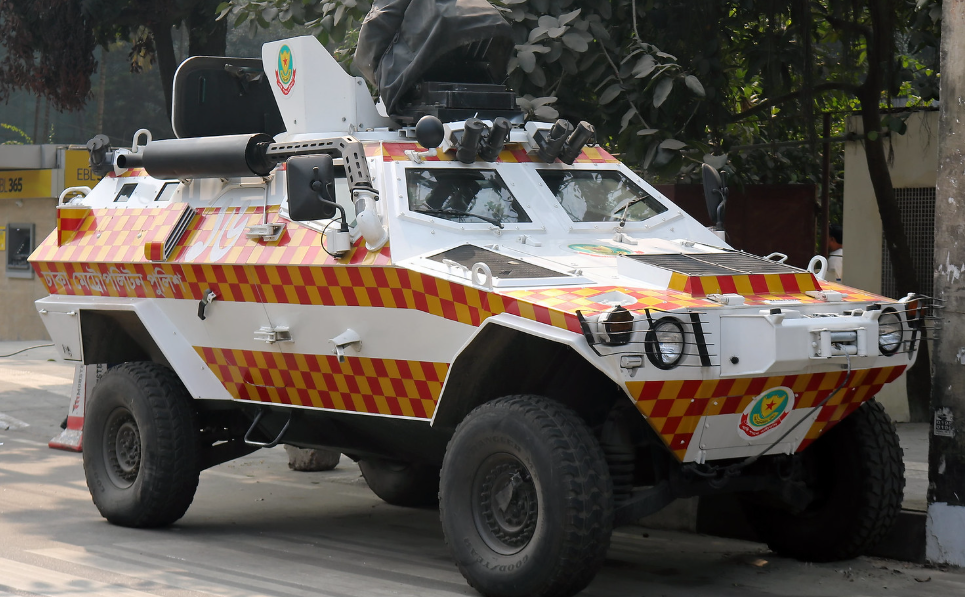Police cars: (28, 28, 940, 597)
